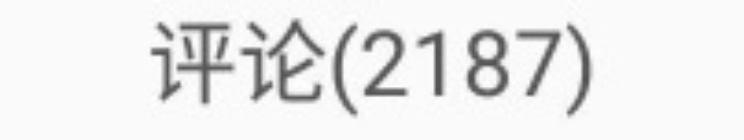TextView: (1, 1, 743, 139)
